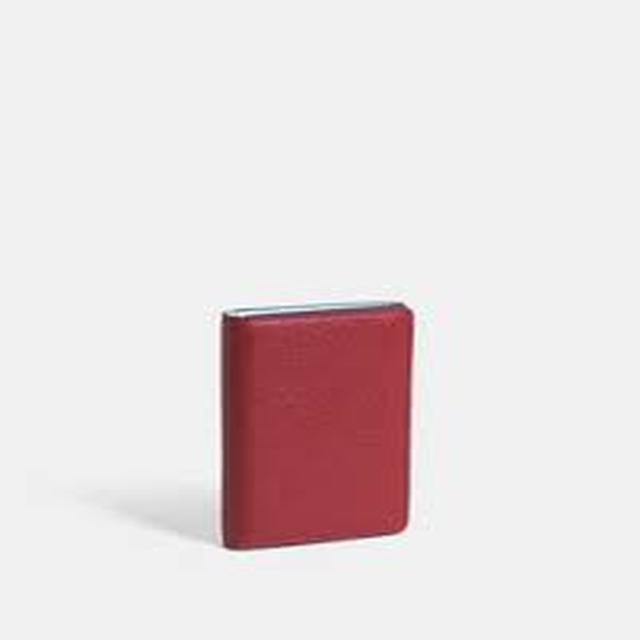wallet: (220, 299, 420, 557)
